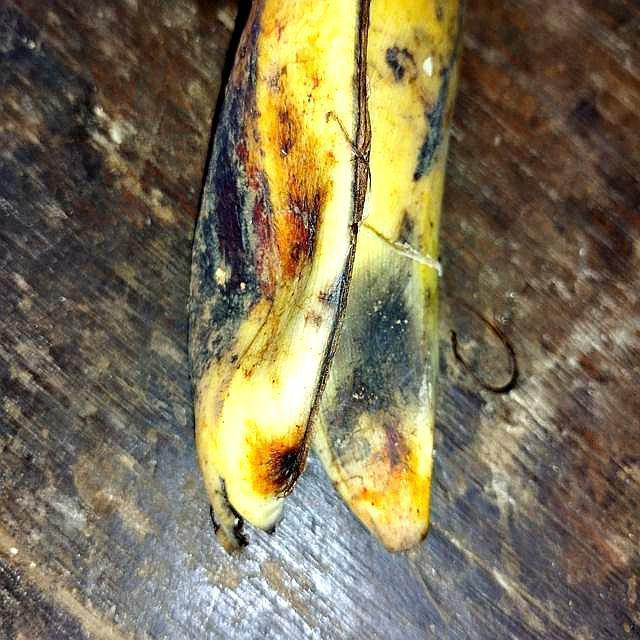Biodegradable: (185, 1, 449, 555)
